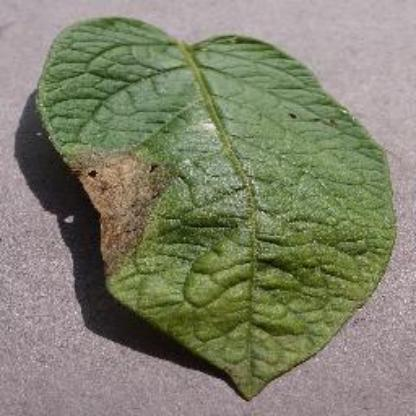Late-Blight: (16, 16, 402, 394)
